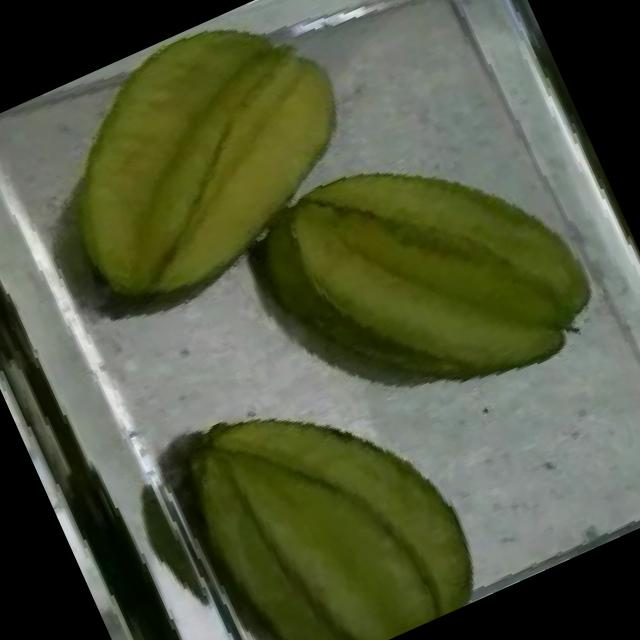fruit: (243, 76, 632, 460), (0, 0, 409, 351), (146, 334, 504, 640)
